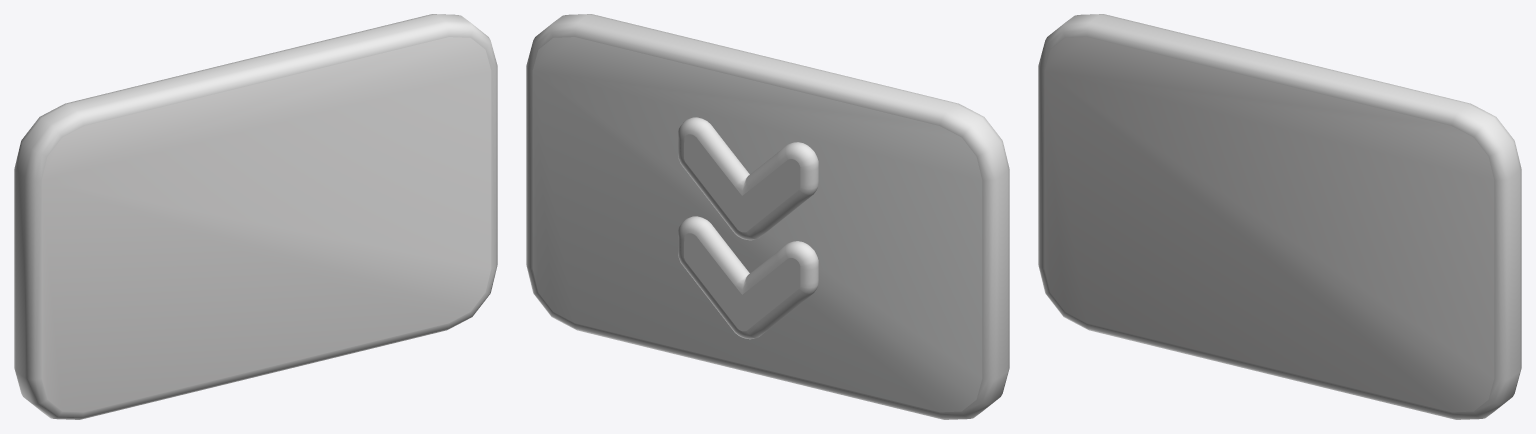
The model's file is gate.fbx.
3 renders of one model, left to right at view 1: azimuth 30°, elevation 25°; view 2: azimuth 150°, elevation 25°; view 3: azimuth 330°, elevation 25°, orthographic.
Parts seen in each view (by area): view 1: gate.001; view 2: gate.001; view 3: gate.001.
Boxes of the visible parts, box(x1,y1,x2,y2) form: gate.001: box(14, 14, 497, 419); gate.001: box(526, 14, 1009, 419); gate.001: box(1038, 14, 1521, 419).
Bounding box in the file's own units: 90.67 × 56.73 × 9.87.
